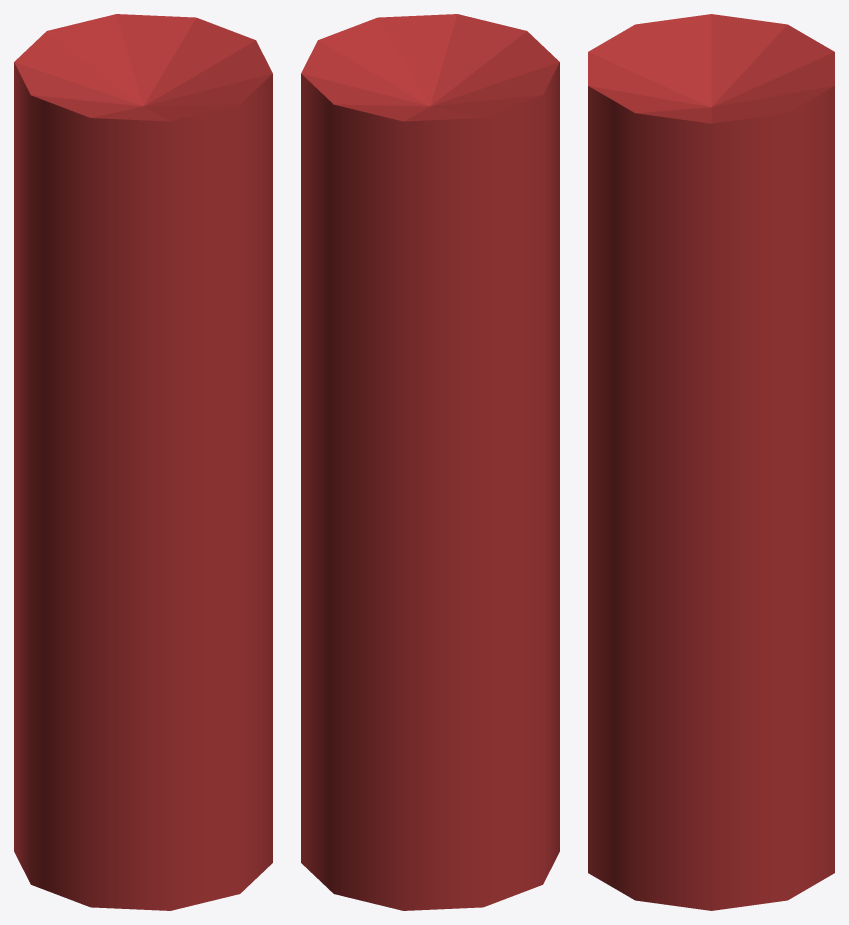
File: Boost.obj
The picture shows the model from 3 angles, left to right: view 1: azimuth 30°, elevation 25°; view 2: azimuth 150°, elevation 25°; view 3: azimuth 270°, elevation 25°; orthographic projection.
Parts seen in each view (by area): view 1: Boost; view 2: Boost; view 3: Boost.
Boxes of the visible parts, x1,y1,x2,y2 form: Boost: (14, 14, 272, 910); Boost: (301, 14, 559, 910); Boost: (588, 14, 834, 910).
Bounding box in the file's own units: 0.4433 × 1.56 × 0.4216.
